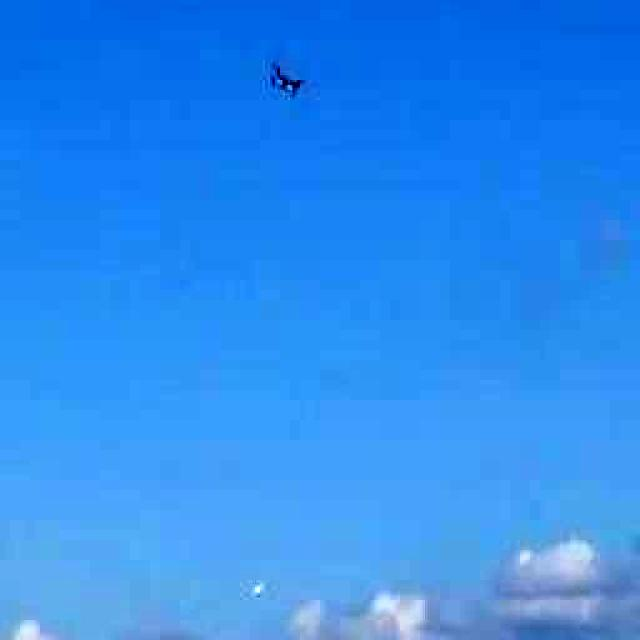bird: (245, 49, 342, 116), (235, 566, 285, 616)
